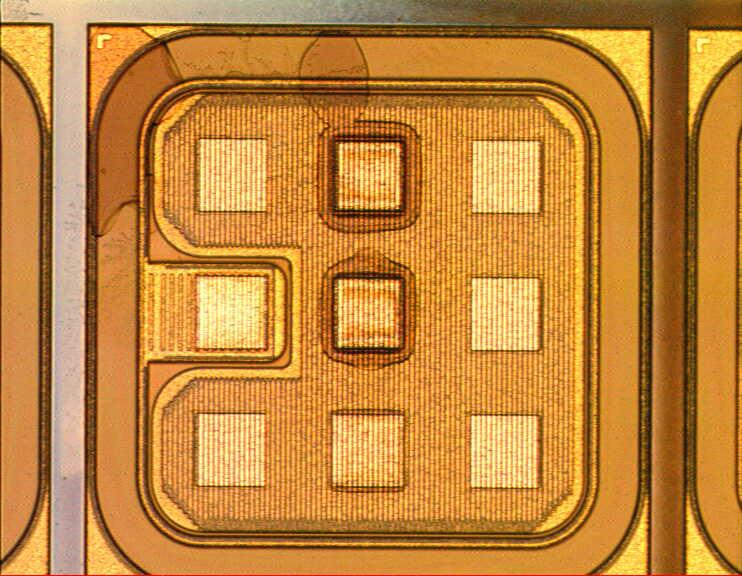SEZ BURNT: (88, 24, 426, 371)
